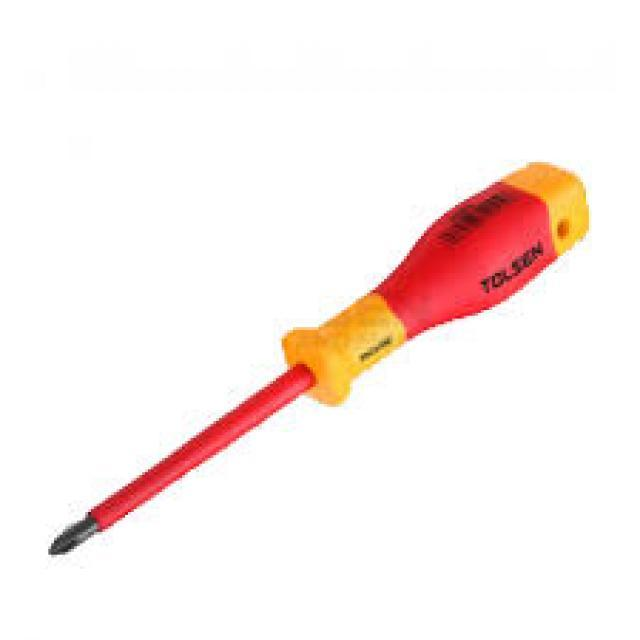screwdriver: (39, 161, 592, 559)
